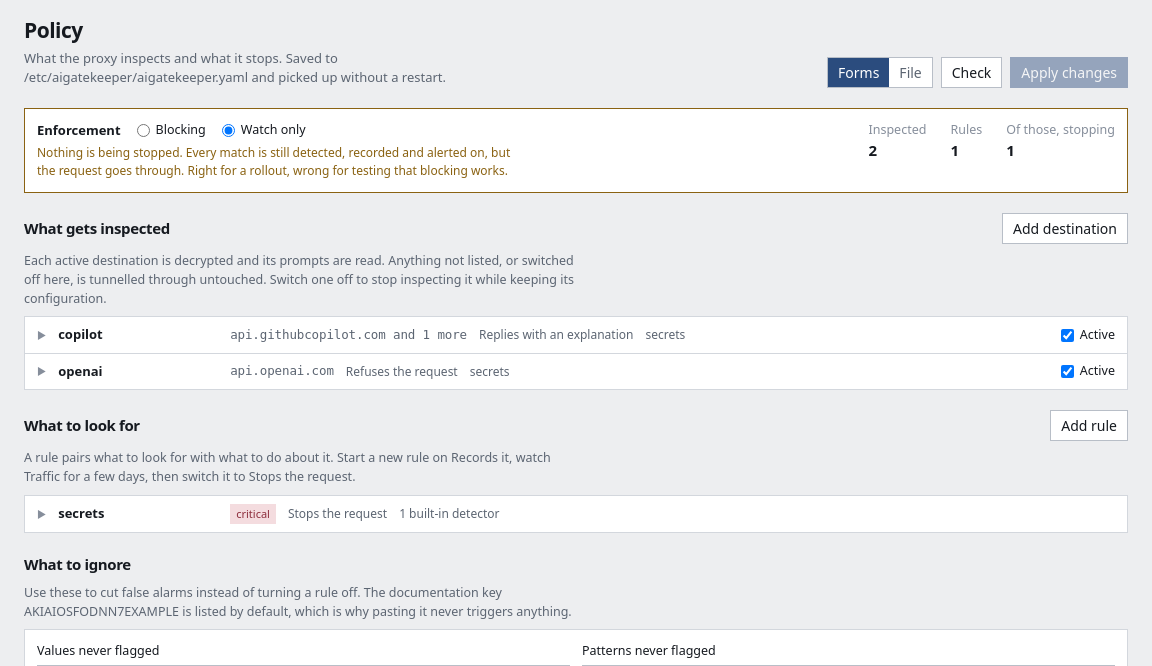
Test case: Policy › offers detectors by name, grouped, and hides retired ones the rule does not use
The width and height of the screenshot is (1152, 666).
Check: the element "What to look for" is shown, box [24,410,1128,533]
Click the button "▶ secrets critical Stops the request 1 built-in detector".
click(81, 513)  # box [25,496,1115,532]
(page scrolled)
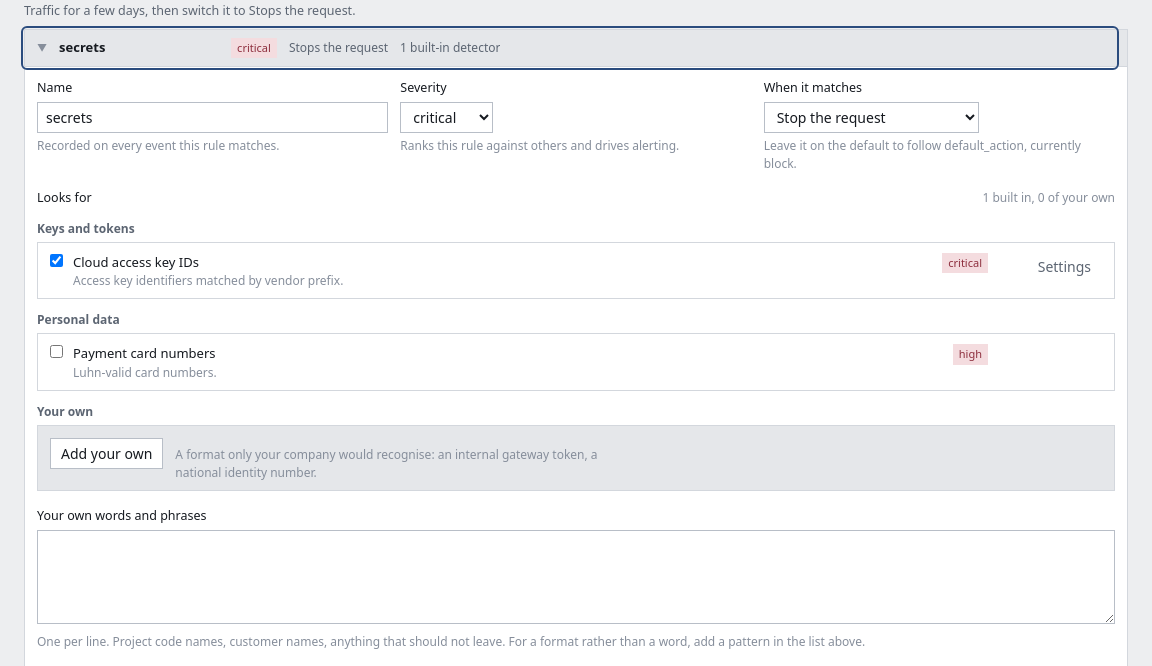
Check: the heading "Keys and tokens" is shown, box [37,220,135,237]
Check: the heading "Personal data" is shown, box [37,311,120,328]
Check: the checkbox labelled "Cloud access key IDs" is checked, box [50,254,63,267]
